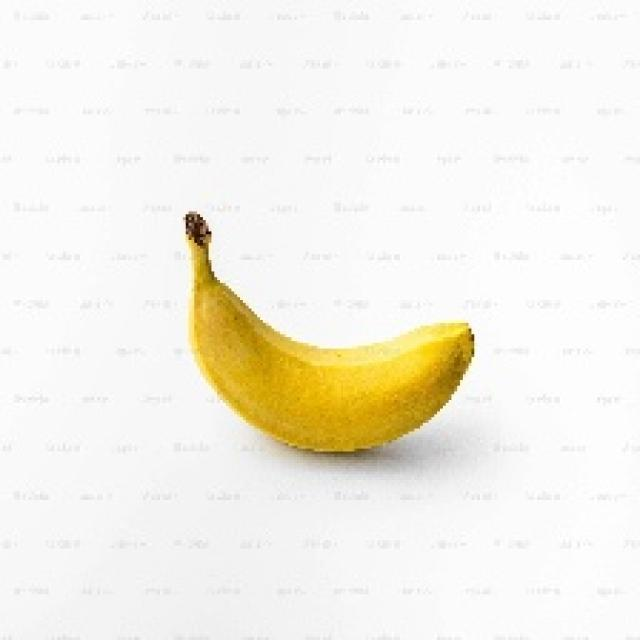Banana: (180, 208, 474, 452)
